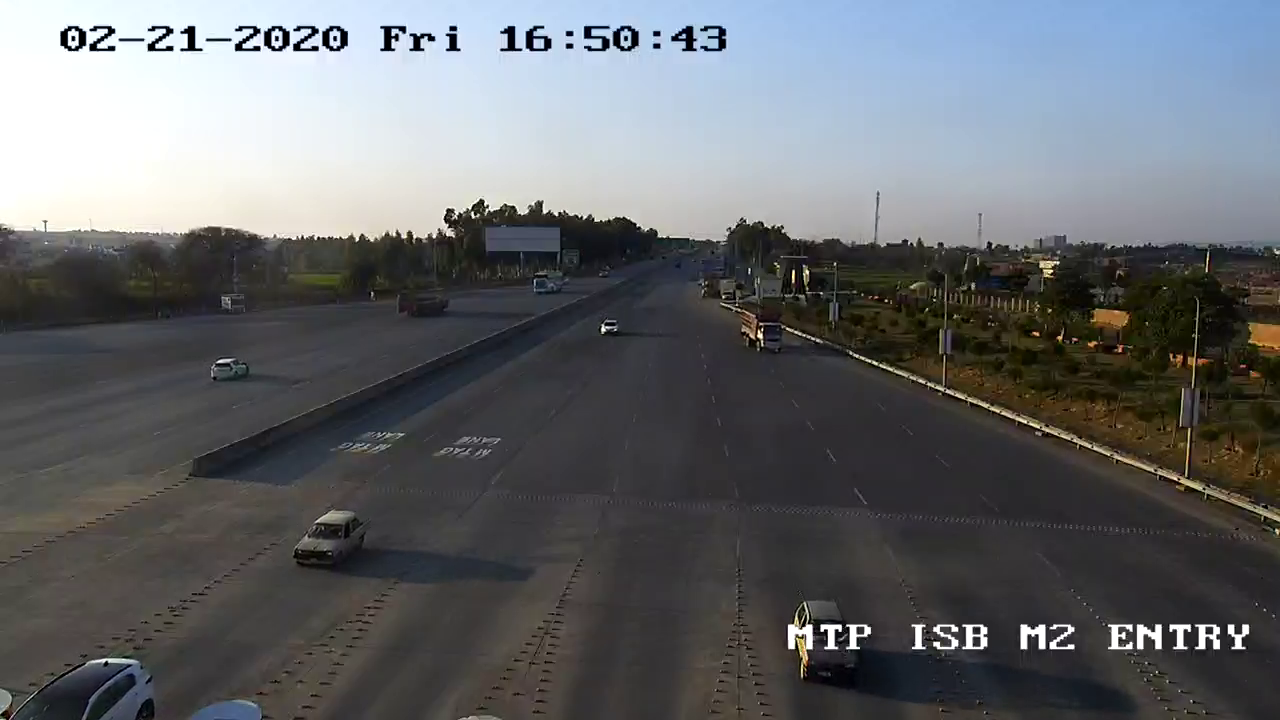f1: (282, 500, 377, 586)
